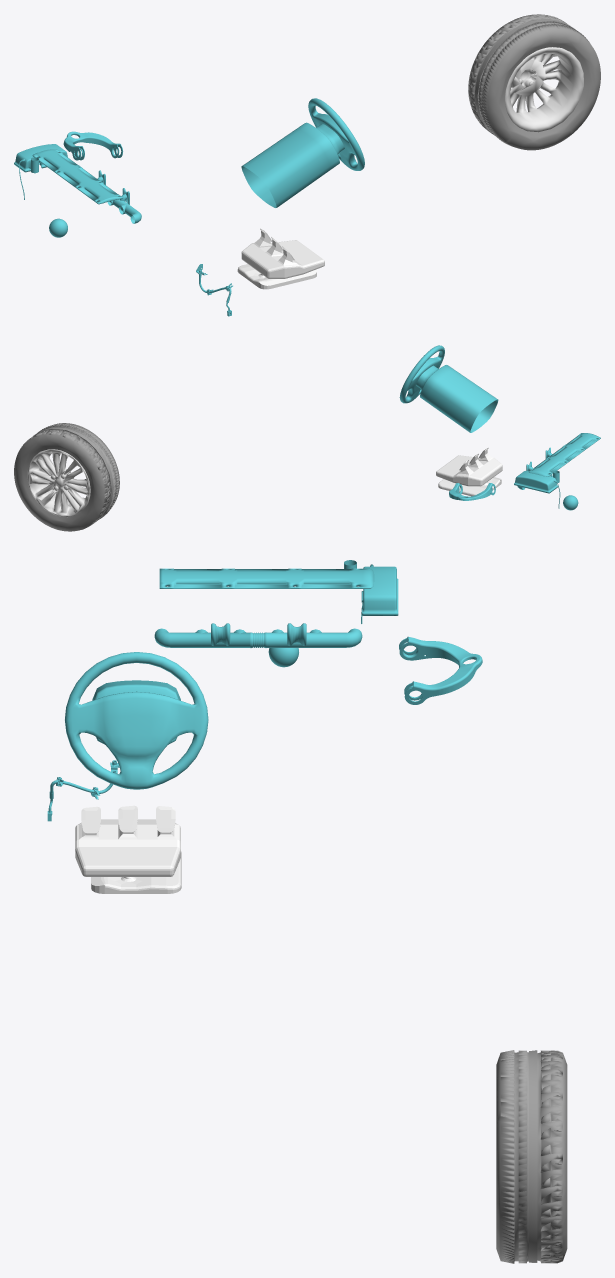
Rendered from sensor.gltf.
3 renders of one model, top to bottom at view 1: azimuth 30°, elevation 25°; view 2: azimuth 150°, elevation 25°; view 3: azimuth 270°, elevation 25°, orthographic. The views are drawn at different scales.
Visible parts, largest first — view 1: Wheel, Steering_Angle_Sensor, Acceleration_Sensor, Mass_Air_Flow, Camshaft_Position, Oxygen_Sensor, Intake_Air_Temperature; view 2: Wheel, Steering_Angle_Sensor, Acceleration_Sensor, Mass_Air_Flow, Oxygen_Sensor, Camshaft_Position; view 3: Wheel, Steering_Angle_Sensor, Acceleration_Sensor, Mass_Air_Flow, Intake_Air_Temperature, Camshaft_Position, Oxygen_Sensor.
Boxes of the visible parts, x1,y1,x2,y2 form: Wheel: [468, 14, 600, 150]; Steering_Angle_Sensor: [241, 98, 364, 207]; Acceleration_Sensor: [237, 228, 324, 289]; Mass_Air_Flow: [32, 149, 122, 204]; Camshaft_Position: [63, 131, 123, 160]; Oxygen_Sensor: [14, 144, 67, 199]; Intake_Air_Temperature: [97, 170, 141, 223]; Wheel: [14, 423, 119, 531]; Steering_Angle_Sensor: [399, 345, 498, 432]; Acceleration_Sensor: [436, 447, 502, 496]; Mass_Air_Flow: [528, 433, 600, 476]; Oxygen_Sensor: [514, 471, 560, 508]; Camshaft_Position: [449, 483, 495, 500]; Wheel: [496, 1050, 567, 1263]; Steering_Angle_Sensor: [65, 652, 208, 789]; Acceleration_Sensor: [75, 805, 181, 893]; Mass_Air_Flow: [159, 568, 374, 588]; Intake_Air_Temperature: [154, 623, 362, 647]; Camshaft_Position: [399, 636, 482, 704]; Oxygen_Sensor: [361, 564, 398, 623].
Size of the model in its own units: 4.23 by 1.38 by 1.91.
